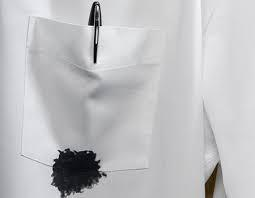ink: (52, 151, 100, 191)
